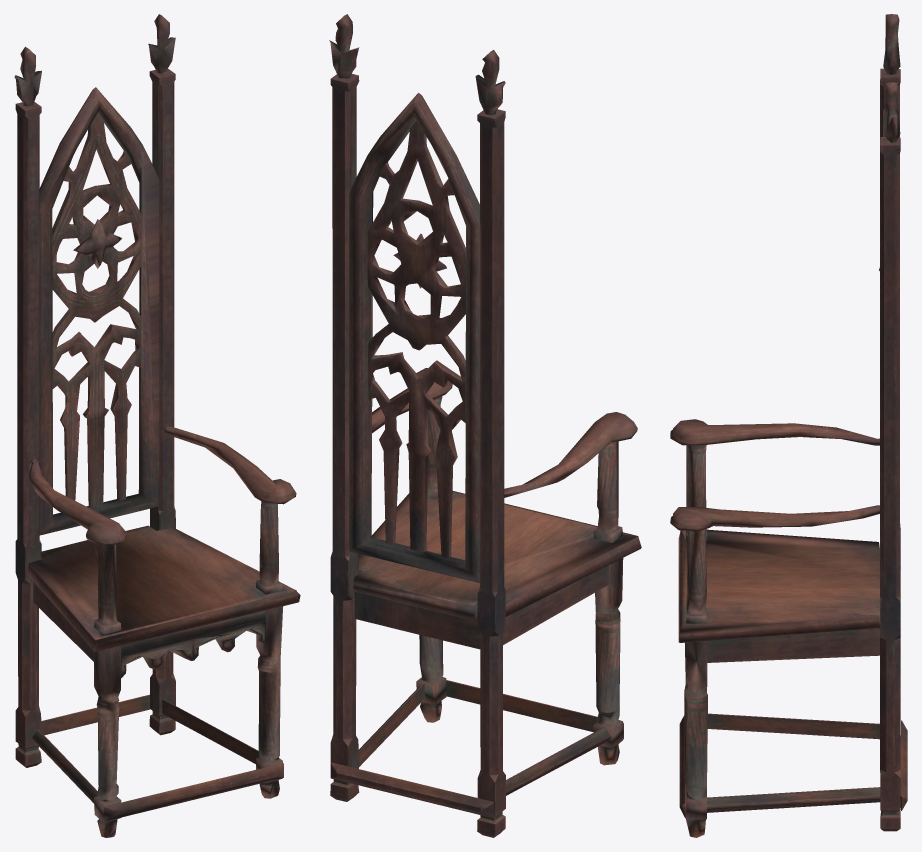
Rendered from WoodenChair_01.glb.
3 views of the same model, side by side, from view 1: azimuth 30°, elevation 25°; view 2: azimuth 150°, elevation 25°; view 3: azimuth 270°, elevation 25° (orthographic). The views are drawn at different scales.
Visible parts, largest first — view 1: WoodenChair_01; view 2: WoodenChair_01; view 3: WoodenChair_01.
Part boxes in pixels (x1,y1,x2,y2): WoodenChair_01: [14, 14, 300, 837]; WoodenChair_01: [329, 14, 641, 837]; WoodenChair_01: [670, 14, 907, 837].
Bounding box in the file's own units: 0.6861 × 2.27 × 0.6556.
Materials: 1 (1 with a texture image).
